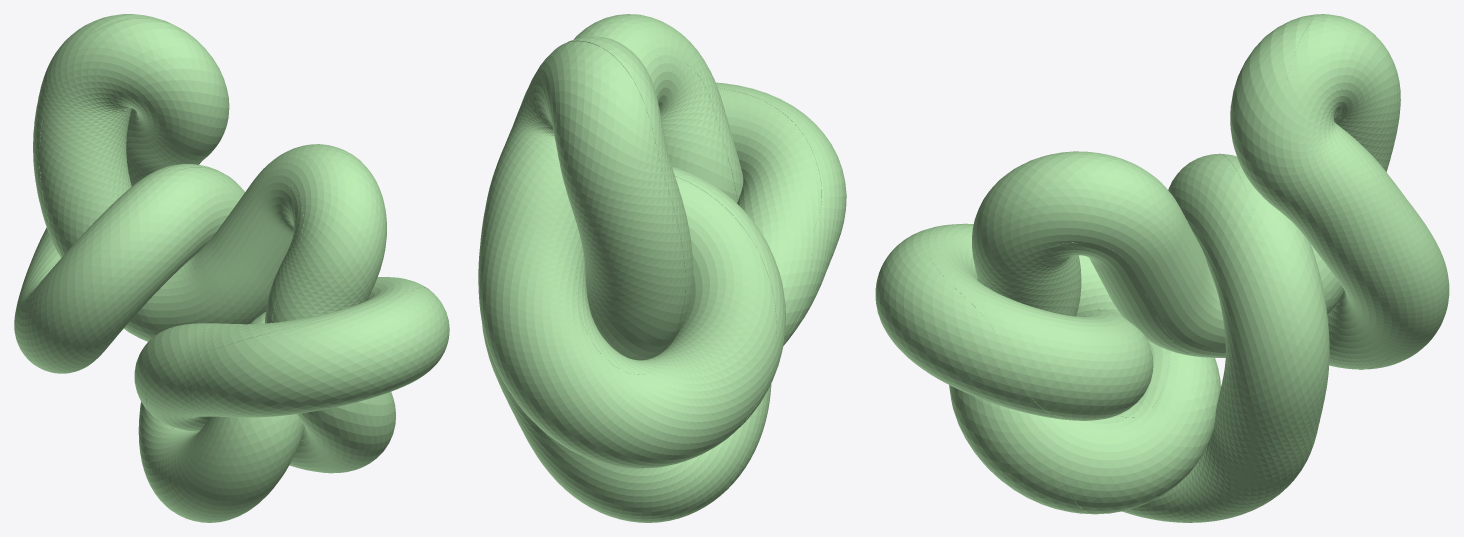
Rendered from gem_317946226.gltf.
3 renders of one model, left to right at view 1: azimuth 30°, elevation 25°; view 2: azimuth 150°, elevation 25°; view 3: azimuth 270°, elevation 25°, orthographic. The views are drawn at different scales.
Bounding box in the file's own units: 1.04 × 1.51 × 1.58.
